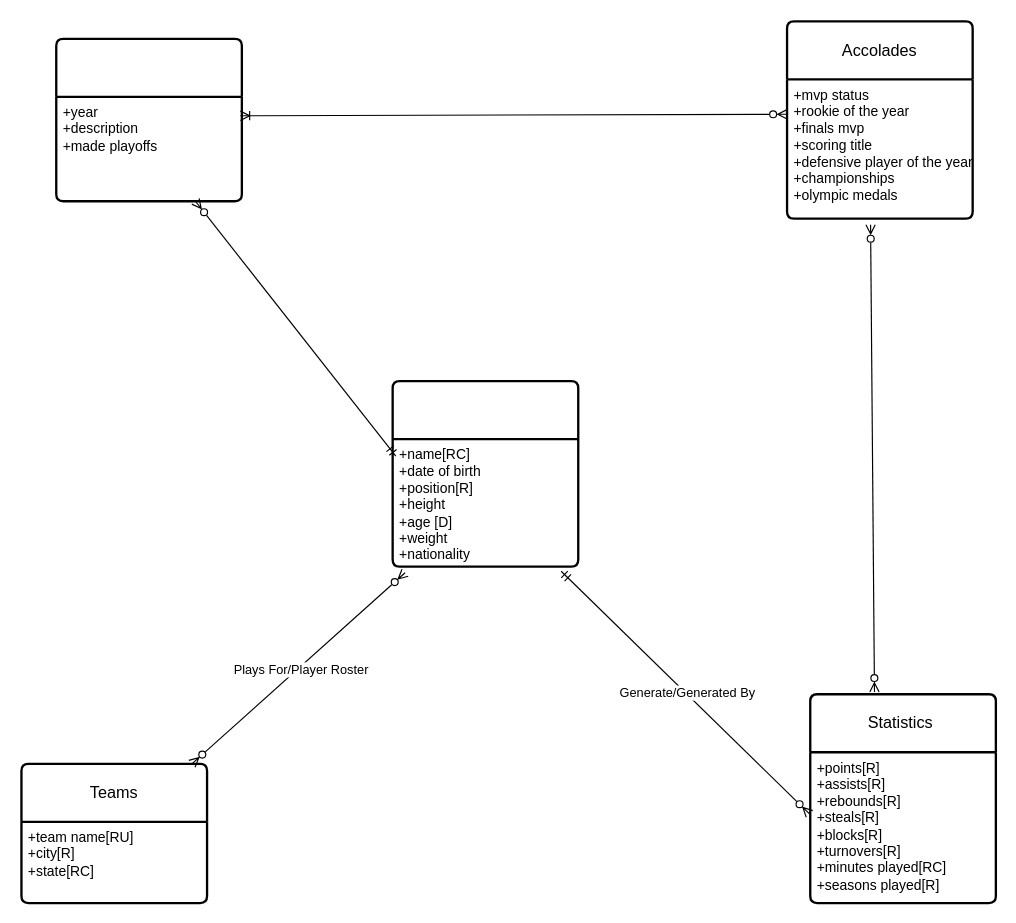
Image size: 1016x923. Some labels were removed from this diagram. Here are the shapes that lost their labels. From the top down, the box of each, then its label:
(55, 37, 242, 202): Seasons
(391, 379, 579, 567): Players
